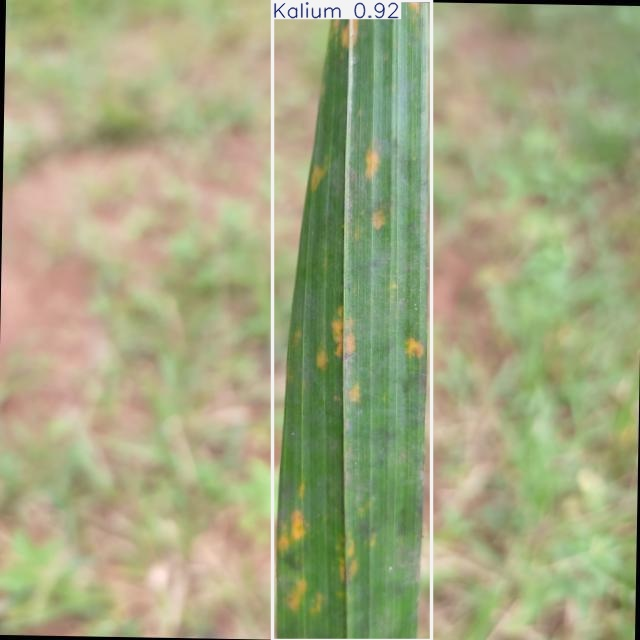Kalium: (273, 1, 431, 640)
